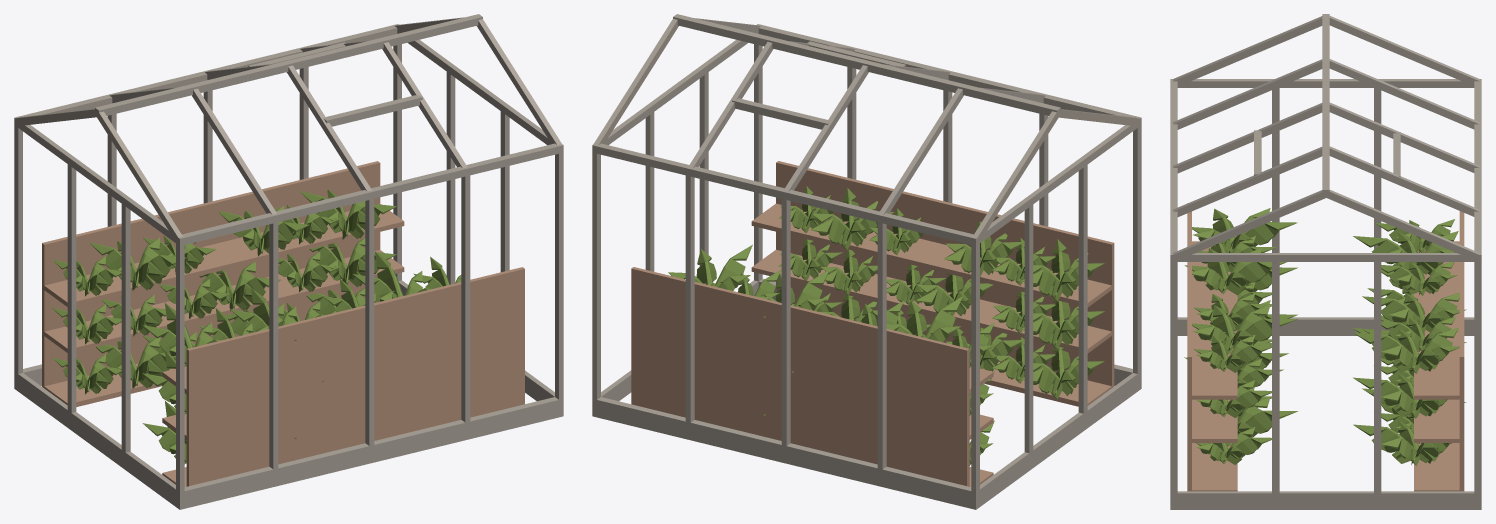
The model's file is Greenhouse.fbx.
3 renders of one model, left to right at view 1: azimuth 30°, elevation 25°; view 2: azimuth 150°, elevation 25°; view 3: azimuth 270°, elevation 25°, orthographic. The views are drawn at different scales.
Parts seen in each view (by area): view 1: Greenhouse; view 2: Greenhouse; view 3: Greenhouse.
Part boxes in pixels (bbox=[...]): Greenhouse: bbox=[14, 14, 563, 509]; Greenhouse: bbox=[592, 14, 1141, 509]; Greenhouse: bbox=[1170, 14, 1481, 509].
Bounding box in the file's own units: 274 × 232 × 205.
